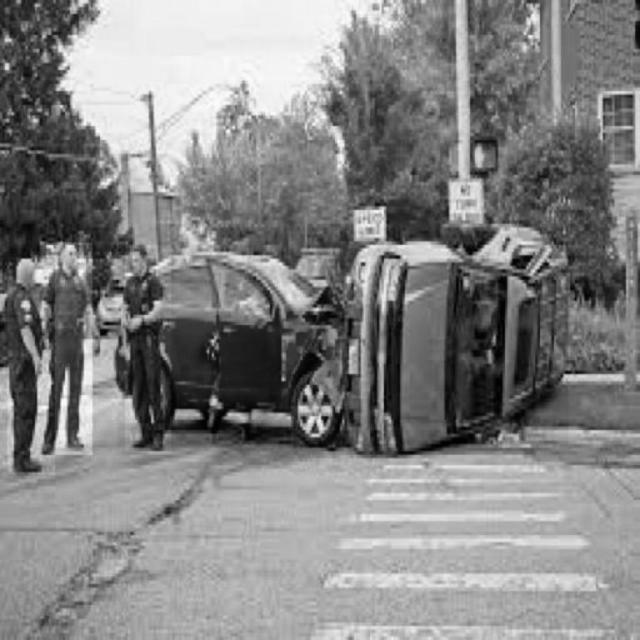accident: (118, 228, 569, 446)
person: (8, 258, 55, 475), (47, 243, 93, 455), (125, 245, 171, 452)
